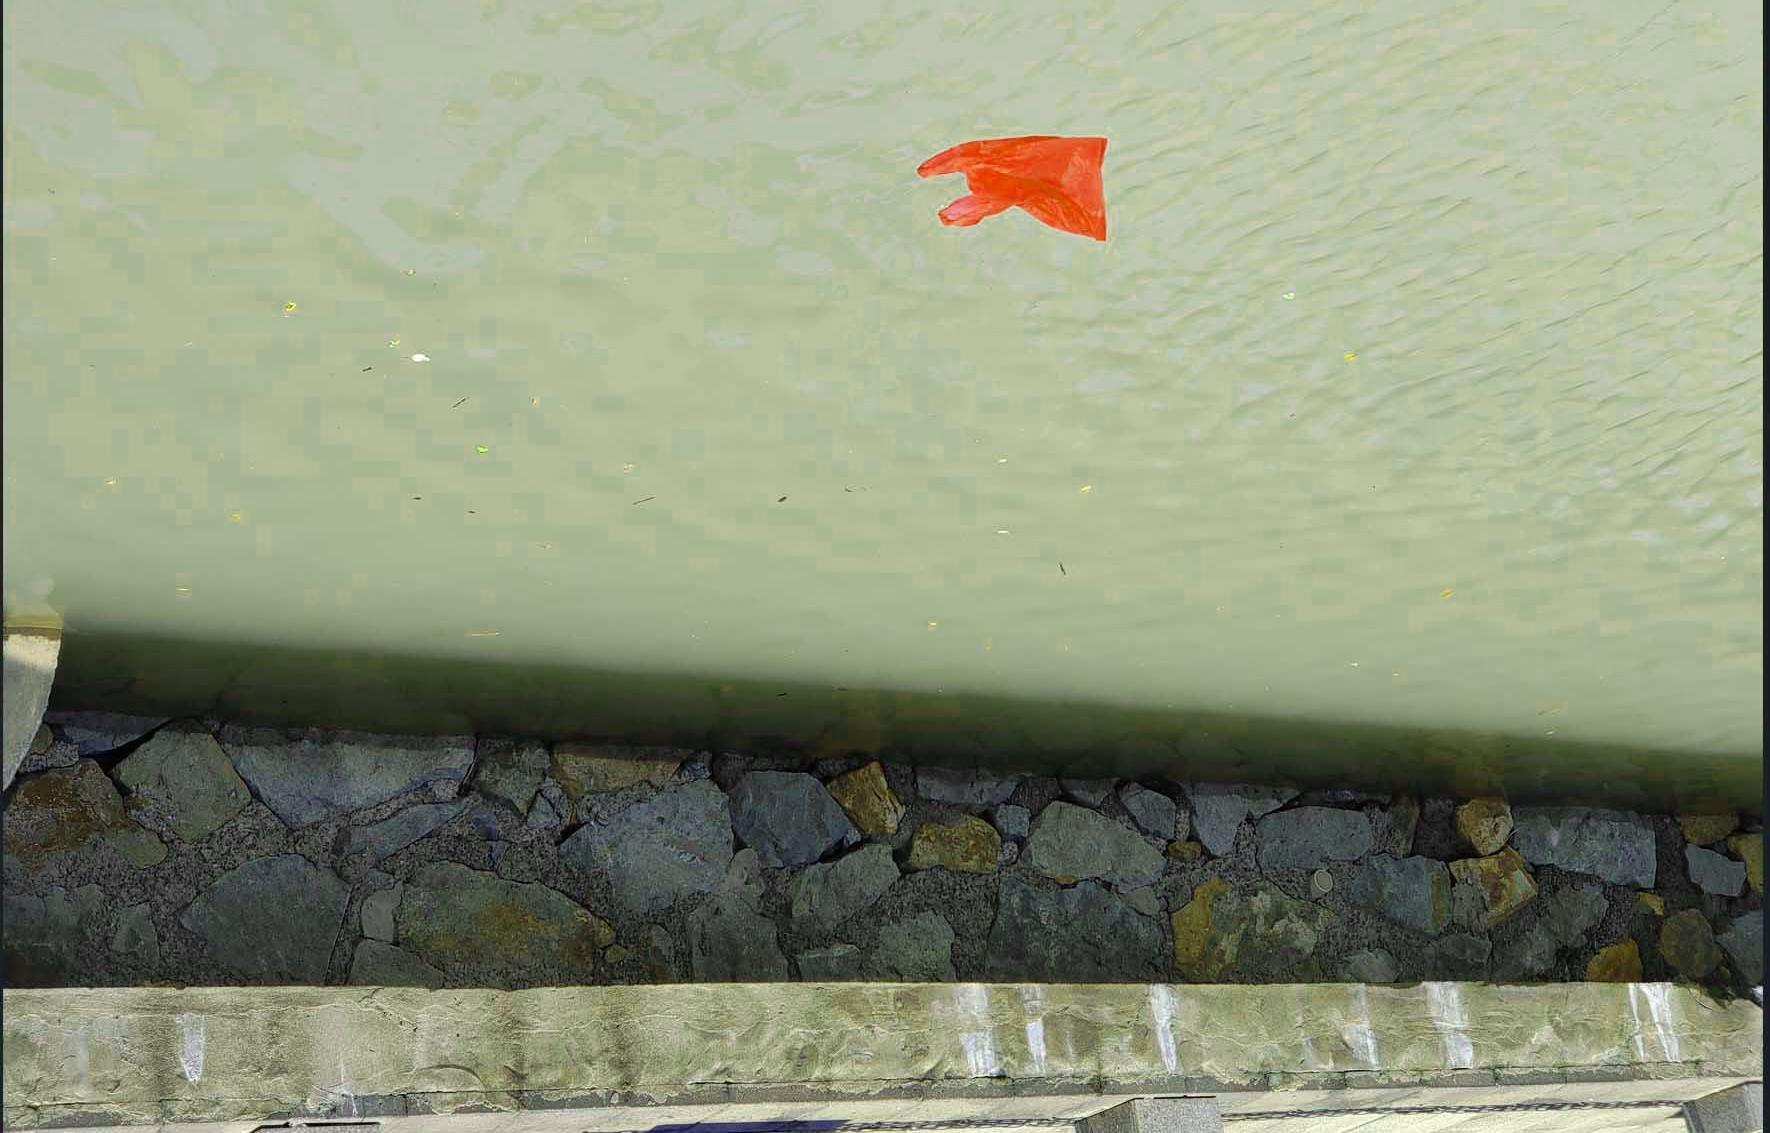Trash: (917, 126, 1122, 244)
